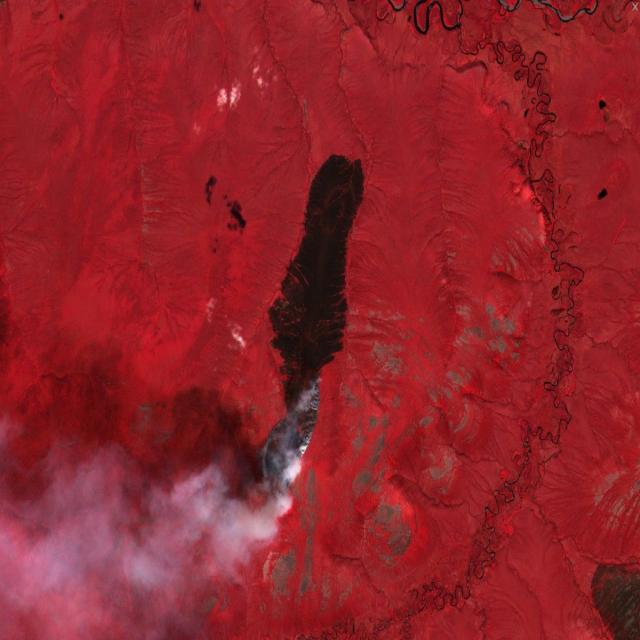fire: (243, 367, 334, 505)
